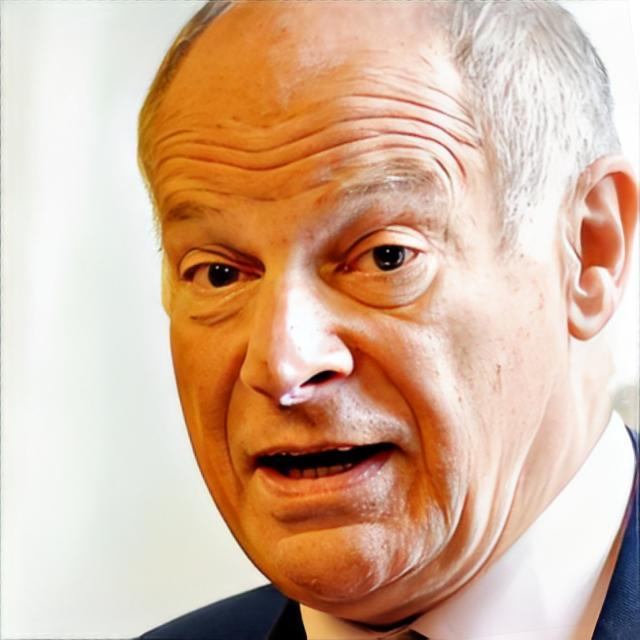surprise: (148, 0, 565, 604)
